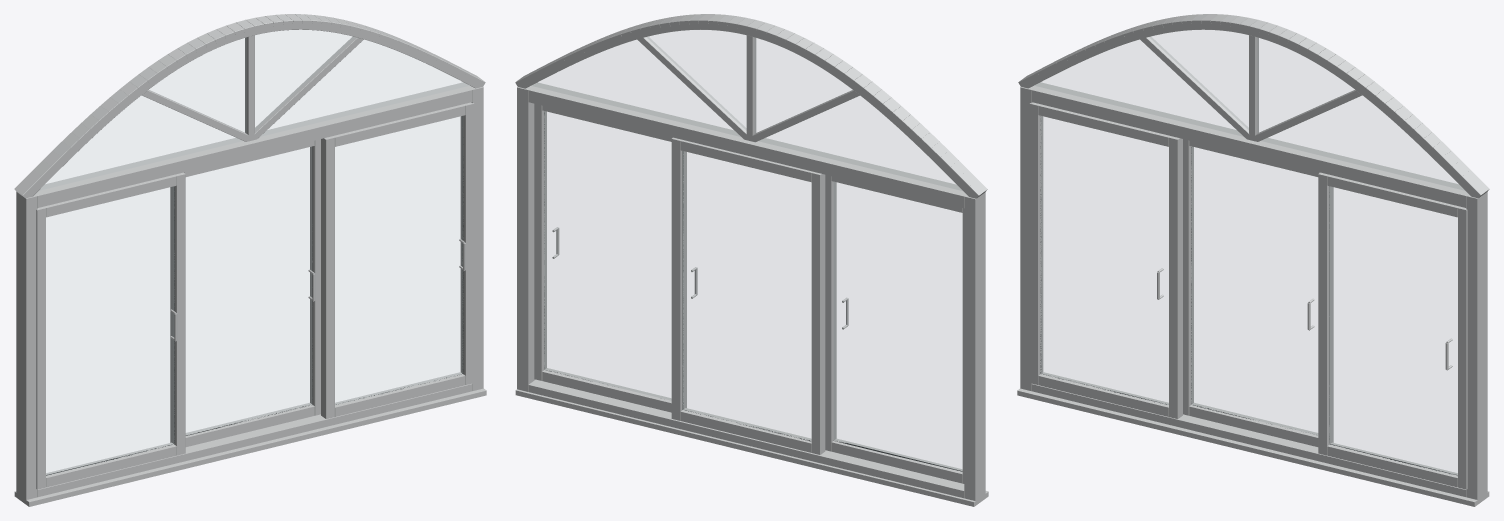
Rendered from white-arched-transom-sliding-window-08.glb.
3 views of the same model, side by side, from view 1: azimuth 30°, elevation 25°; view 2: azimuth 150°, elevation 25°; view 3: azimuth 330°, elevation 25° (orthographic).
Parts seen in each view (by area): view 1: Window / Sliding leaf 1 glass, Window / Sliding leaf 3 glass, Window / Sliding leaf 2 glass, Window / Fanlight glass, Window / Outer jamb, Window / Sliding leaf 3 sash, Window / Sliding leaf 1 sash, Window / Arched header, Window / Sliding leaf 2 sash, Window / Sill extrusion, Window / Fanlight radial bar; view 2: Window / Sliding leaf 2 glass, Window / Sliding leaf 1 glass, Window / Sliding leaf 3 glass, Window / Outer jamb, Window / Fanlight glass, Window / Sliding leaf 2 sash, Window / Arched header, Window / Sliding leaf 1 sash, Window / Sliding leaf 3 sash, Window / Fanlight radial bar, Window / Sill extrusion; view 3: Window / Sliding leaf 1 glass, Window / Sliding leaf 3 glass, Window / Sliding leaf 2 glass, Window / Fanlight glass, Window / Outer jamb, Window / Sliding leaf 1 sash, Window / Sliding leaf 3 sash, Window / Arched header, Window / Sliding leaf 2 sash, Window / Sill extrusion, Window / Fanlight radial bar.
Boxes of the visible parts, left/top/right/bottom form: Window / Sliding leaf 1 glass: left=46, top=187, right=173, bottom=474; Window / Sliding leaf 3 glass: left=335, top=116, right=462, bottom=404; Window / Sliding leaf 2 glass: left=186, top=147, right=311, bottom=434; Window / Fanlight glass: left=40, top=30, right=468, bottom=189; Window / Outer jamb: left=16, top=82, right=483, bottom=504; Window / Sliding leaf 3 sash: left=321, top=102, right=474, bottom=418; Window / Sliding leaf 1 sash: left=36, top=172, right=185, bottom=489; Window / Arched header: left=14, top=14, right=485, bottom=198; Window / Sliding leaf 2 sash: left=170, top=139, right=320, bottom=446; Window / Sill extrusion: left=14, top=388, right=486, bottom=506; Window / Fanlight radial bar: left=141, top=35, right=363, bottom=141; Window / Sliding leaf 2 glass: left=683, top=151, right=810, bottom=440; Window / Sliding leaf 1 glass: left=834, top=182, right=961, bottom=470; Window / Sliding leaf 3 glass: left=545, top=112, right=670, bottom=399; Window / Outer jamb: left=517, top=82, right=985, bottom=505; Window / Fanlight glass: left=532, top=30, right=961, bottom=190; Window / Sliding leaf 2 sash: left=671, top=137, right=825, bottom=454; Window / Arched header: left=515, top=14, right=987, bottom=198; Window / Sliding leaf 1 sash: left=825, top=174, right=964, bottom=483; Window / Sliding leaf 3 sash: left=534, top=103, right=686, bottom=412; Window / Fanlight radial bar: left=637, top=35, right=859, bottom=142; Window / Sill extrusion: left=515, top=389, right=988, bottom=506; Window / Sliding leaf 1 glass: left=1041, top=116, right=1168, bottom=404; Window / Sliding leaf 3 glass: left=1330, top=187, right=1457, bottom=474; Window / Sliding leaf 2 glass: left=1192, top=147, right=1317, bottom=434; Window / Fanlight glass: left=1035, top=30, right=1463, bottom=189; Window / Outer jamb: left=1020, top=82, right=1487, bottom=499; Window / Sliding leaf 1 sash: left=1029, top=102, right=1182, bottom=418; Window / Sliding leaf 3 sash: left=1318, top=172, right=1467, bottom=489; Window / Arched header: left=1018, top=14, right=1489, bottom=198; Window / Sliding leaf 2 sash: left=1183, top=139, right=1333, bottom=446; Window / Sill extrusion: left=1017, top=388, right=1489, bottom=506; Window / Fanlight radial bar: left=1140, top=35, right=1362, bottom=141.
Size of the model in its own units: 1.82 by 1.59 by 0.123.
